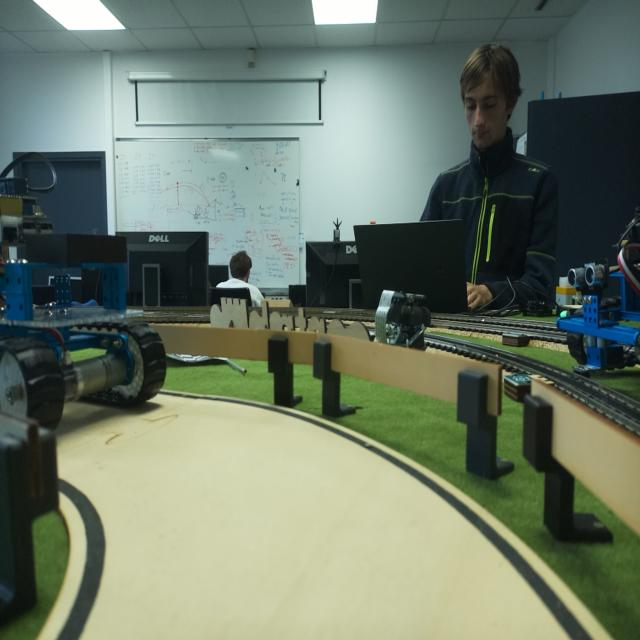obstacle_voiture: (0, 175, 168, 428)
